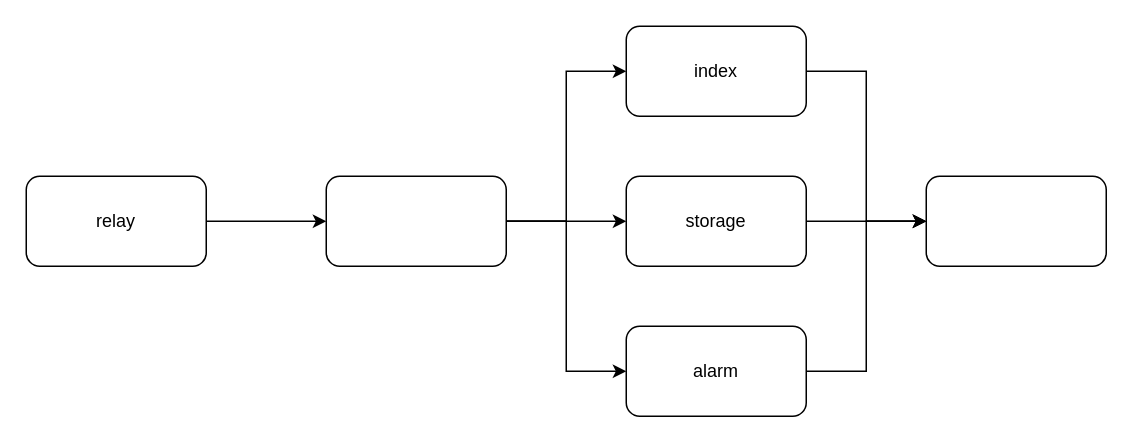
Some shapes in this 1133 by 443 pixel diagram are drawn without their labels. Each missing label, with the centre of its shape:
api: the point at 1015,220
cache: the point at 415,220
